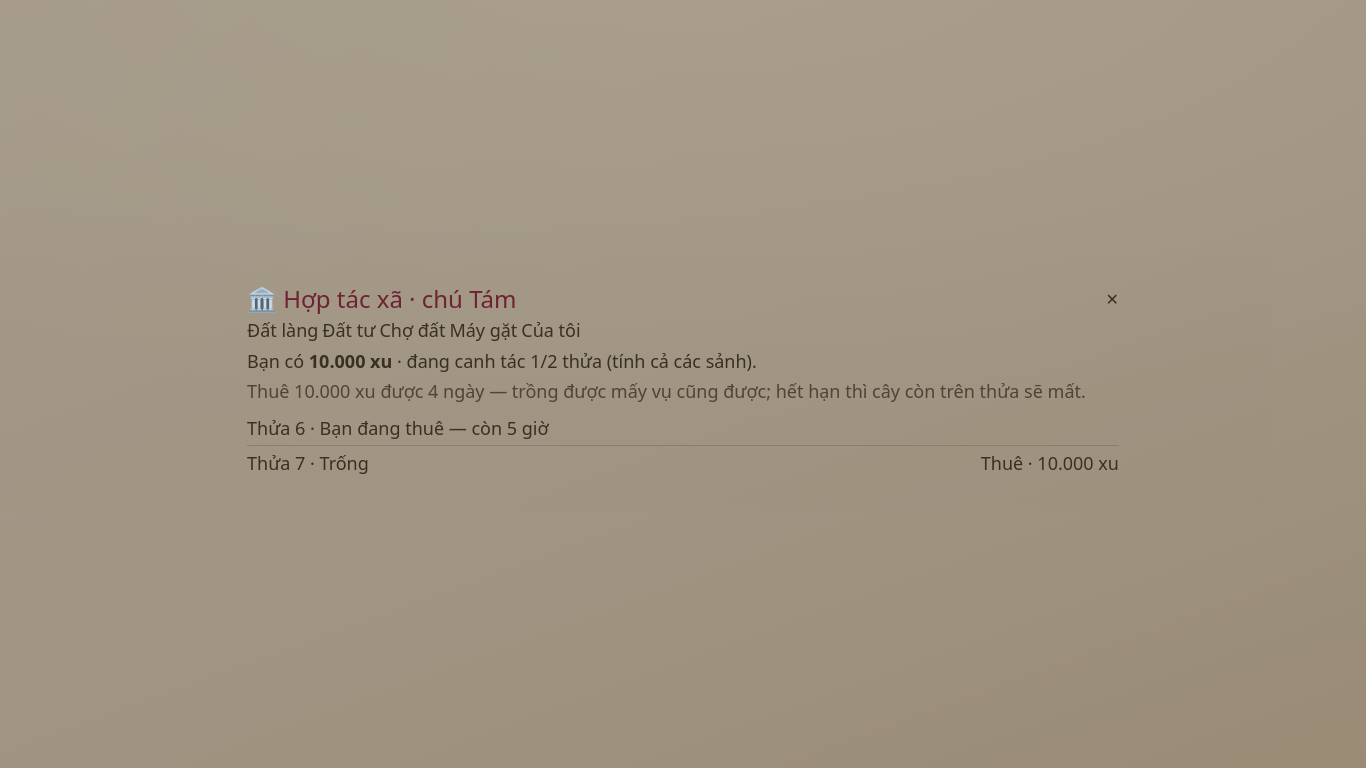
Scenario: v15.2: the shop's tools, cô Út's hoa màu and chú Tám's harvester › opens on Đất làng otherwise, and says so when I farm no rice here
The image size is (1366, 768).
What coordinates should you click on to do the following:
click the tab "Máy gặt"
I would click on:
 (483, 331)
Its box is [449,319,517,342].
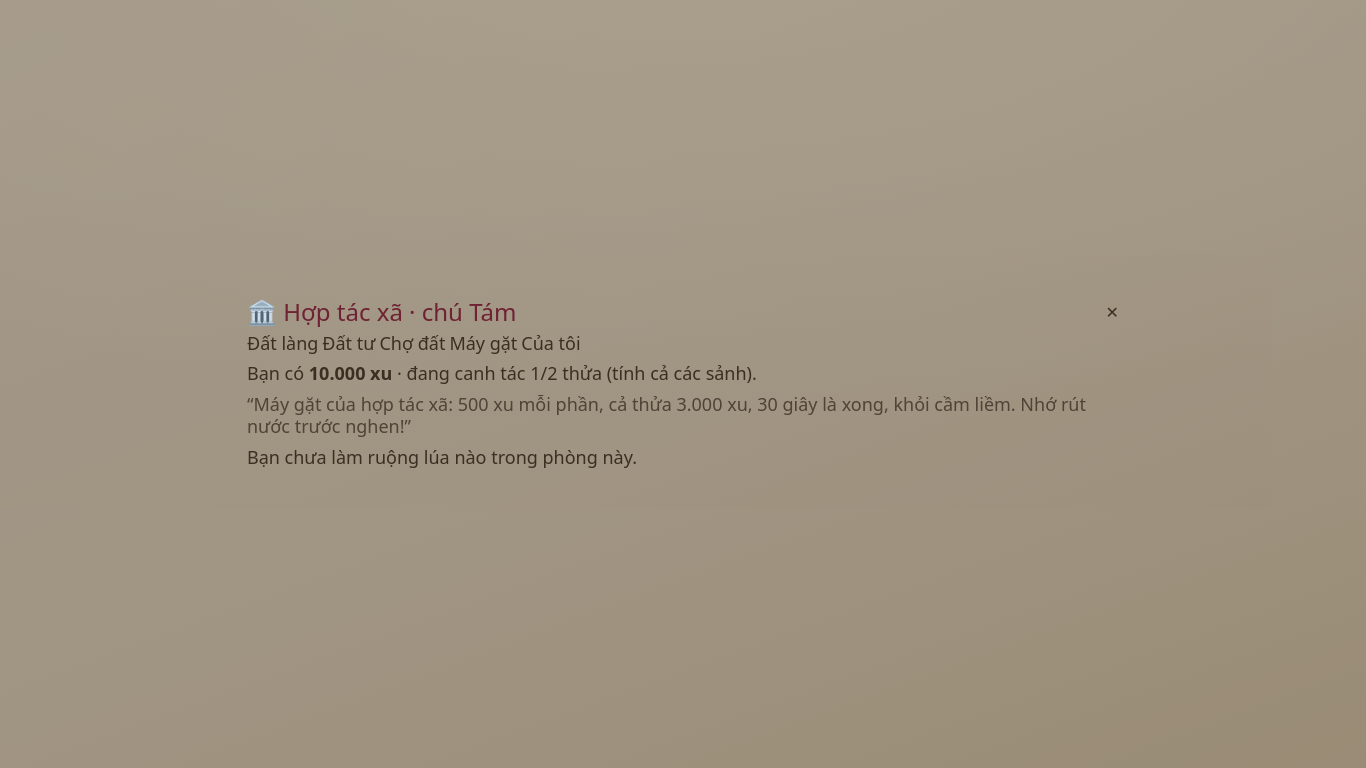
Result: the text "Bạn chưa làm ruộng lúa nào trong phòng này." is shown at [247,445,637,468]
